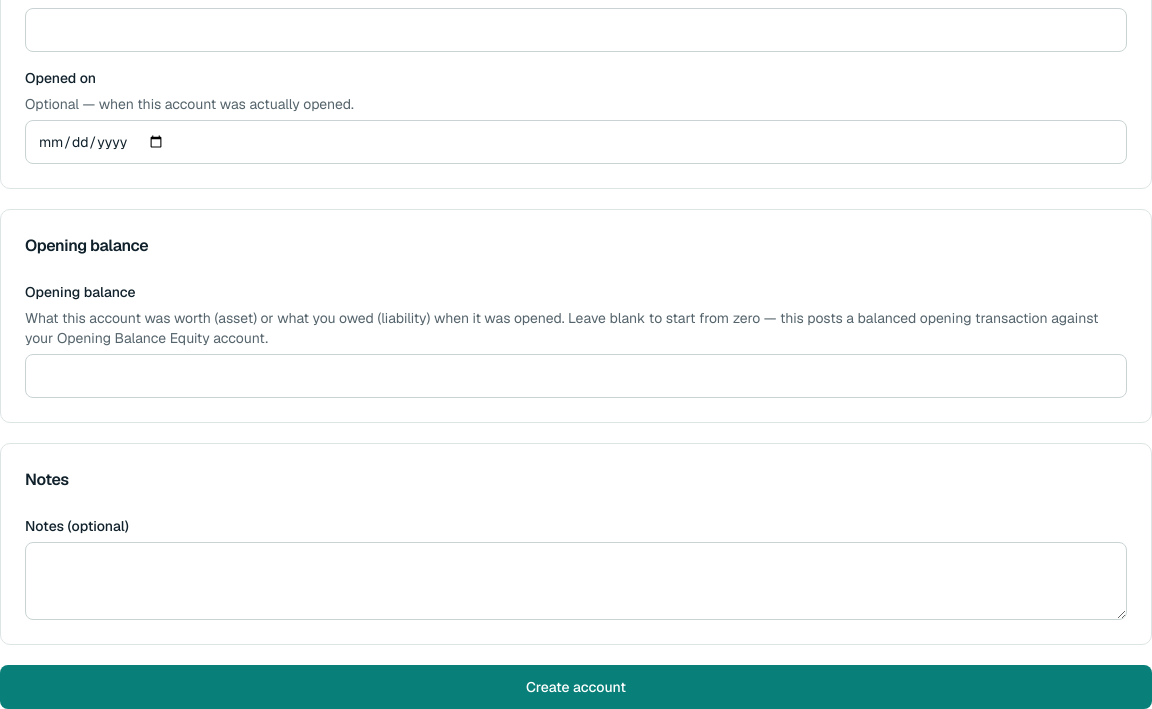
Test case: AccountForm › shows a safe error message, never a raw database error
(page scrolled)
Click the button "Create account". click: (576, 687)
box: [0,665,1151,708]
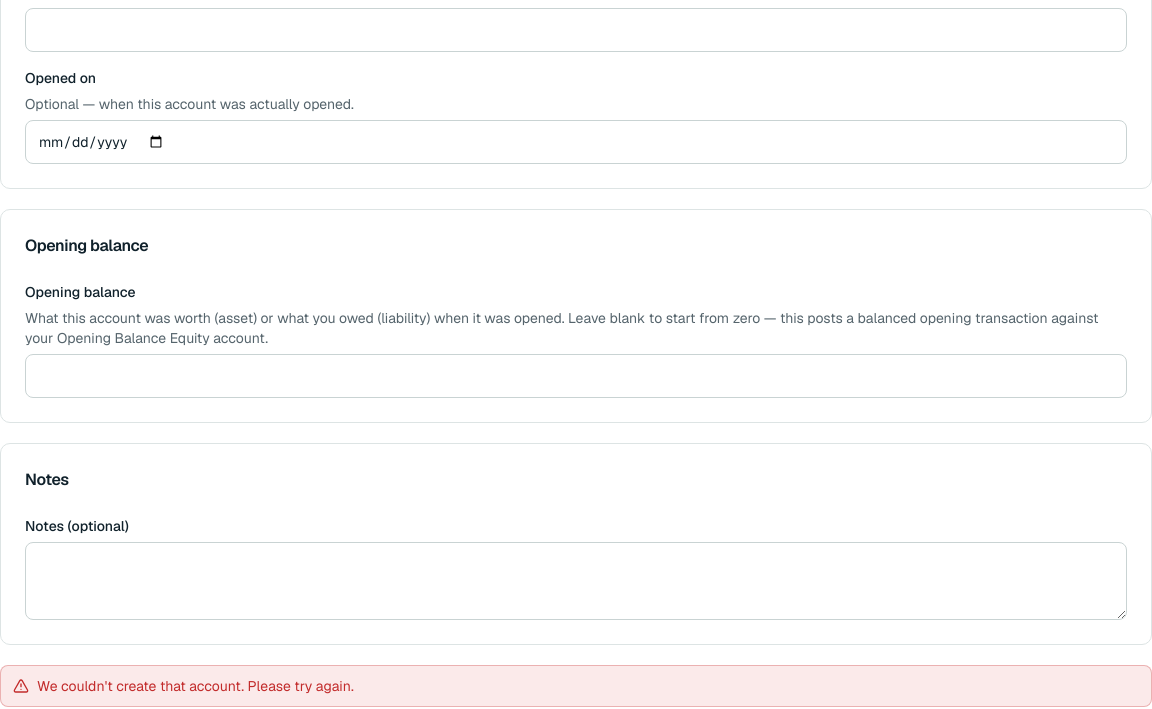
Result: the message reads "We couldn't create that account. Please try again." at [37,677,354,695]
